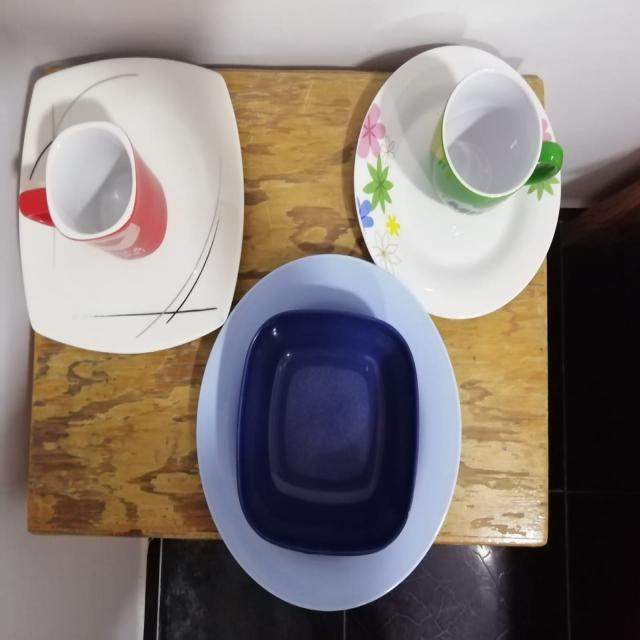non-organic waste: (174, 258, 467, 616), (1, 33, 295, 377), (342, 39, 564, 340)
